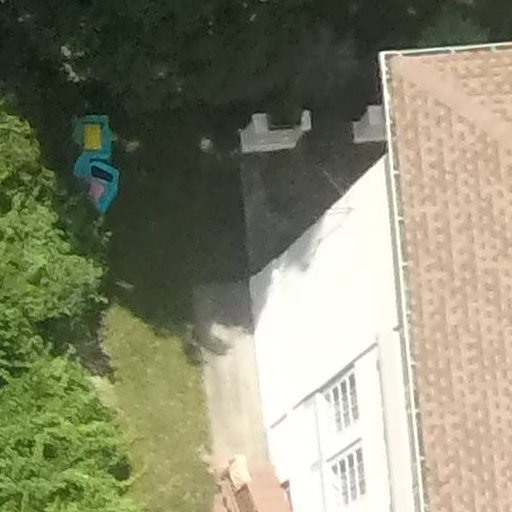chair: (58, 146, 119, 219), (63, 95, 123, 160)
